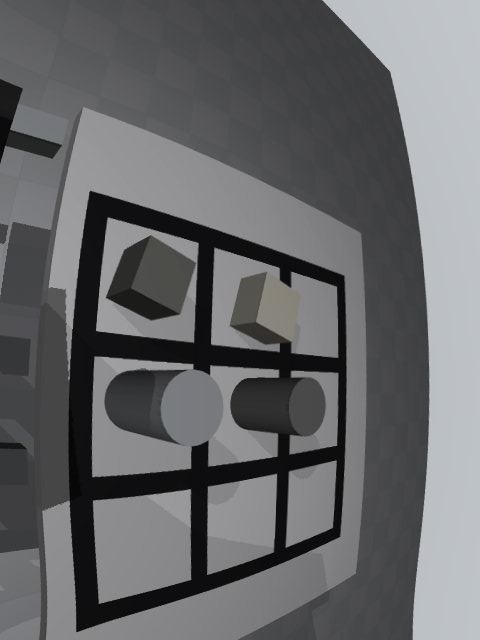can: (105, 370, 223, 447)
cube: (106, 235, 196, 320)
cylinder: (230, 378, 326, 436)
foam: (230, 272, 301, 344)
